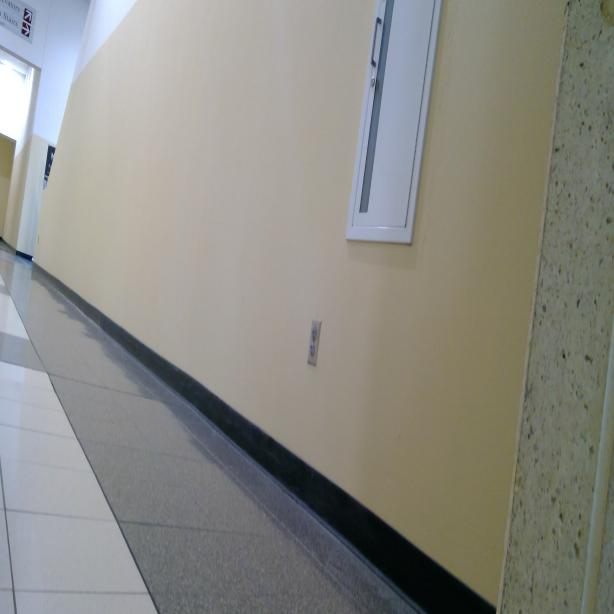typeb: (310, 344, 316, 357), (312, 325, 316, 343)
